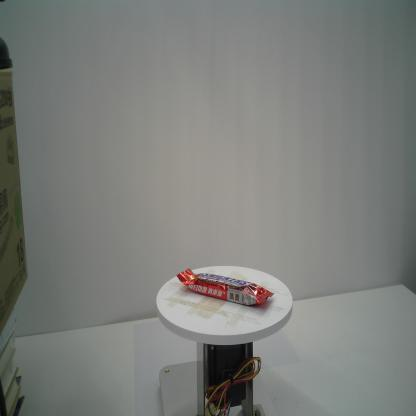Chocolate: (176, 268, 275, 306)
